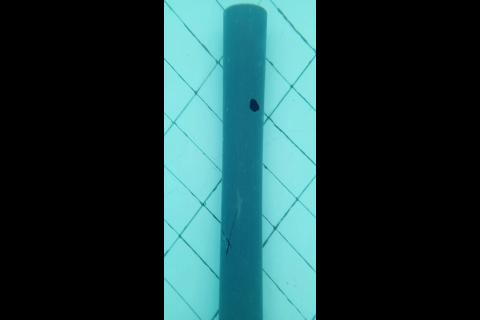kebocoran: (248, 96, 260, 112)
keretakan: (222, 212, 236, 257)
